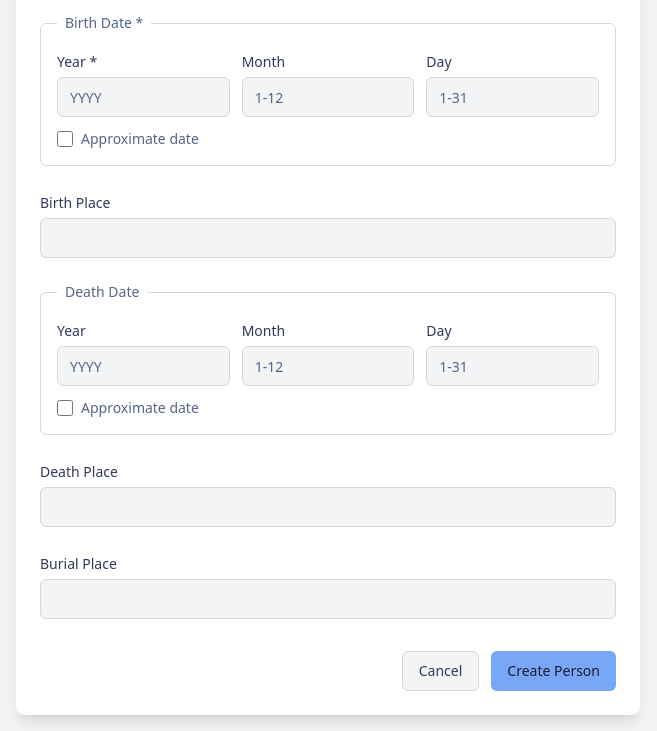
it: PersonCreatePage › form validation › should show error when submitting empty form
(page scrolled)
Click the button "Create Person": (554, 671) [491,651,616,691]
(page scrolled)
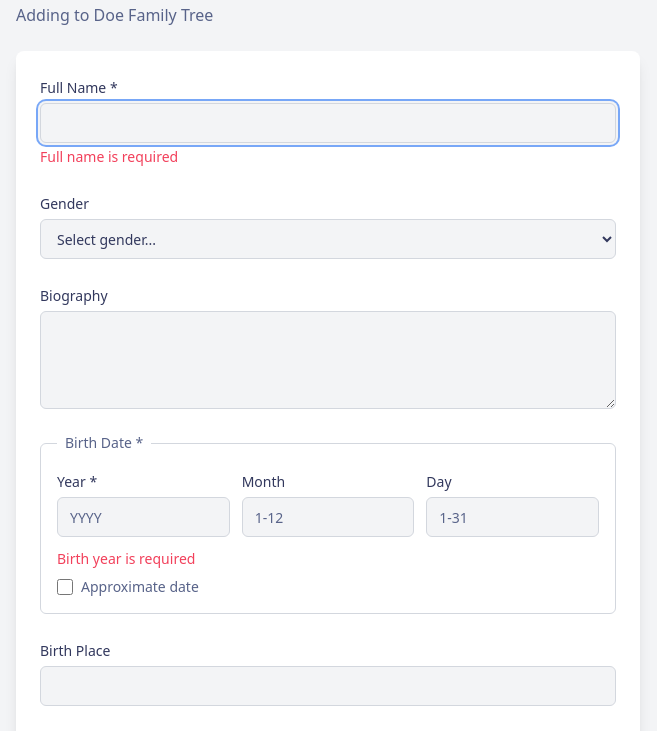
Expected: the text "Full name is required" is shown, [40,147,178,166]
